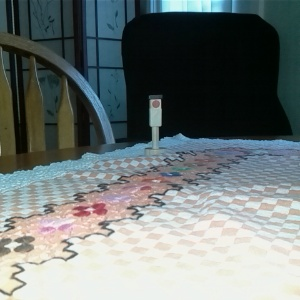traffic light red: (143, 91, 169, 159)
